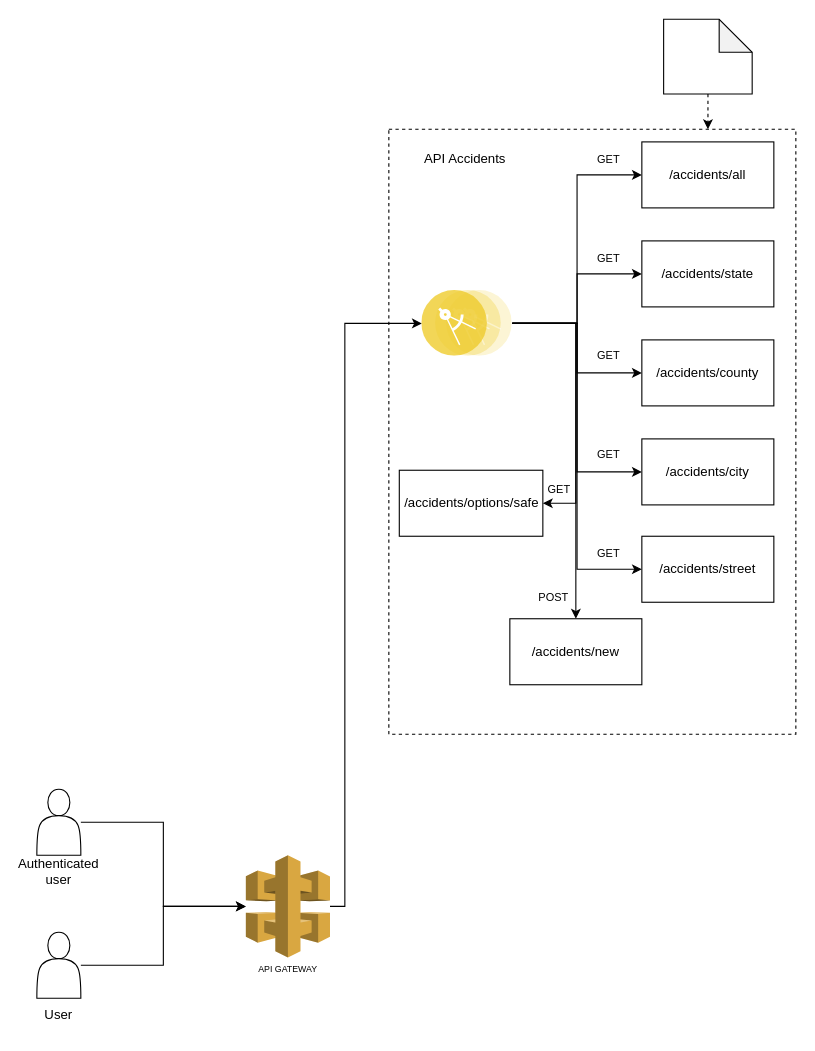
Image size: 815x1051. Some labels were removed from this diagram. The shapes that lost their labels are listed below. From the top down, each one's centre as x and y in pixels, then its label:
At pixel 707 56: "REST API using HTTP protocol".
At pixel 466 323: "Represents the API".
